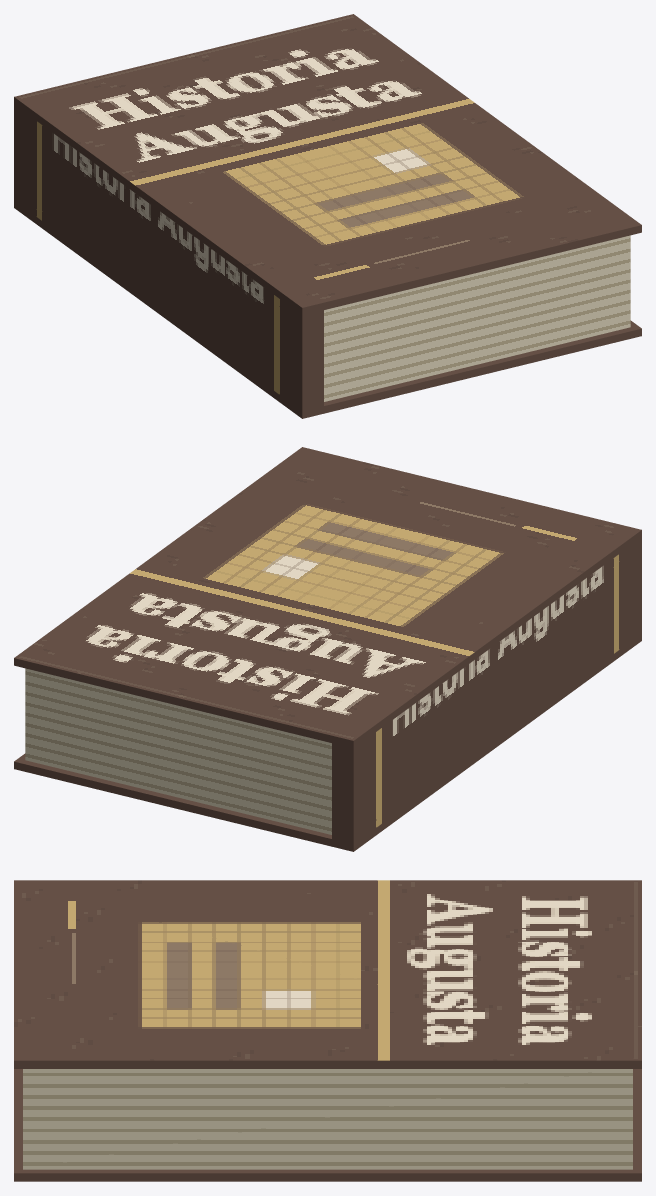
The model's file is holybook_romancult2.glb.
3 views of the same model, one above another, from view 1: azimuth 30°, elevation 25°; view 2: azimuth 150°, elevation 25°; view 3: azimuth 270°, elevation 25° (orthographic). The views are drawn at different scales.
Parts seen in each view (by area): view 1: block_front cover, block_spine, block_page block, block_back cover; view 2: block_front cover, block_spine, block_page block, block_back cover; view 3: block_front cover, block_page block, block_back cover.
Part boxes in pixels (x1,y1,x2,y2): block_front cover: (14,14,641,315); block_spine: (14,104,323,411); block_page block: (324,235,630,401); block_back cover: (14,200,641,418); block_front cover: (14,447,641,748); block_spine: (332,537,641,844); block_page block: (25,668,331,834); block_back cover: (14,633,641,851); block_front cover: (14,880,641,1068); block_page block: (23,1069,632,1169); block_back cover: (14,1069,641,1181).
Bounding box in the file's own units: 0.1414 × 0.0442 × 0.208.
Materials: 1 (1 with a texture image).
